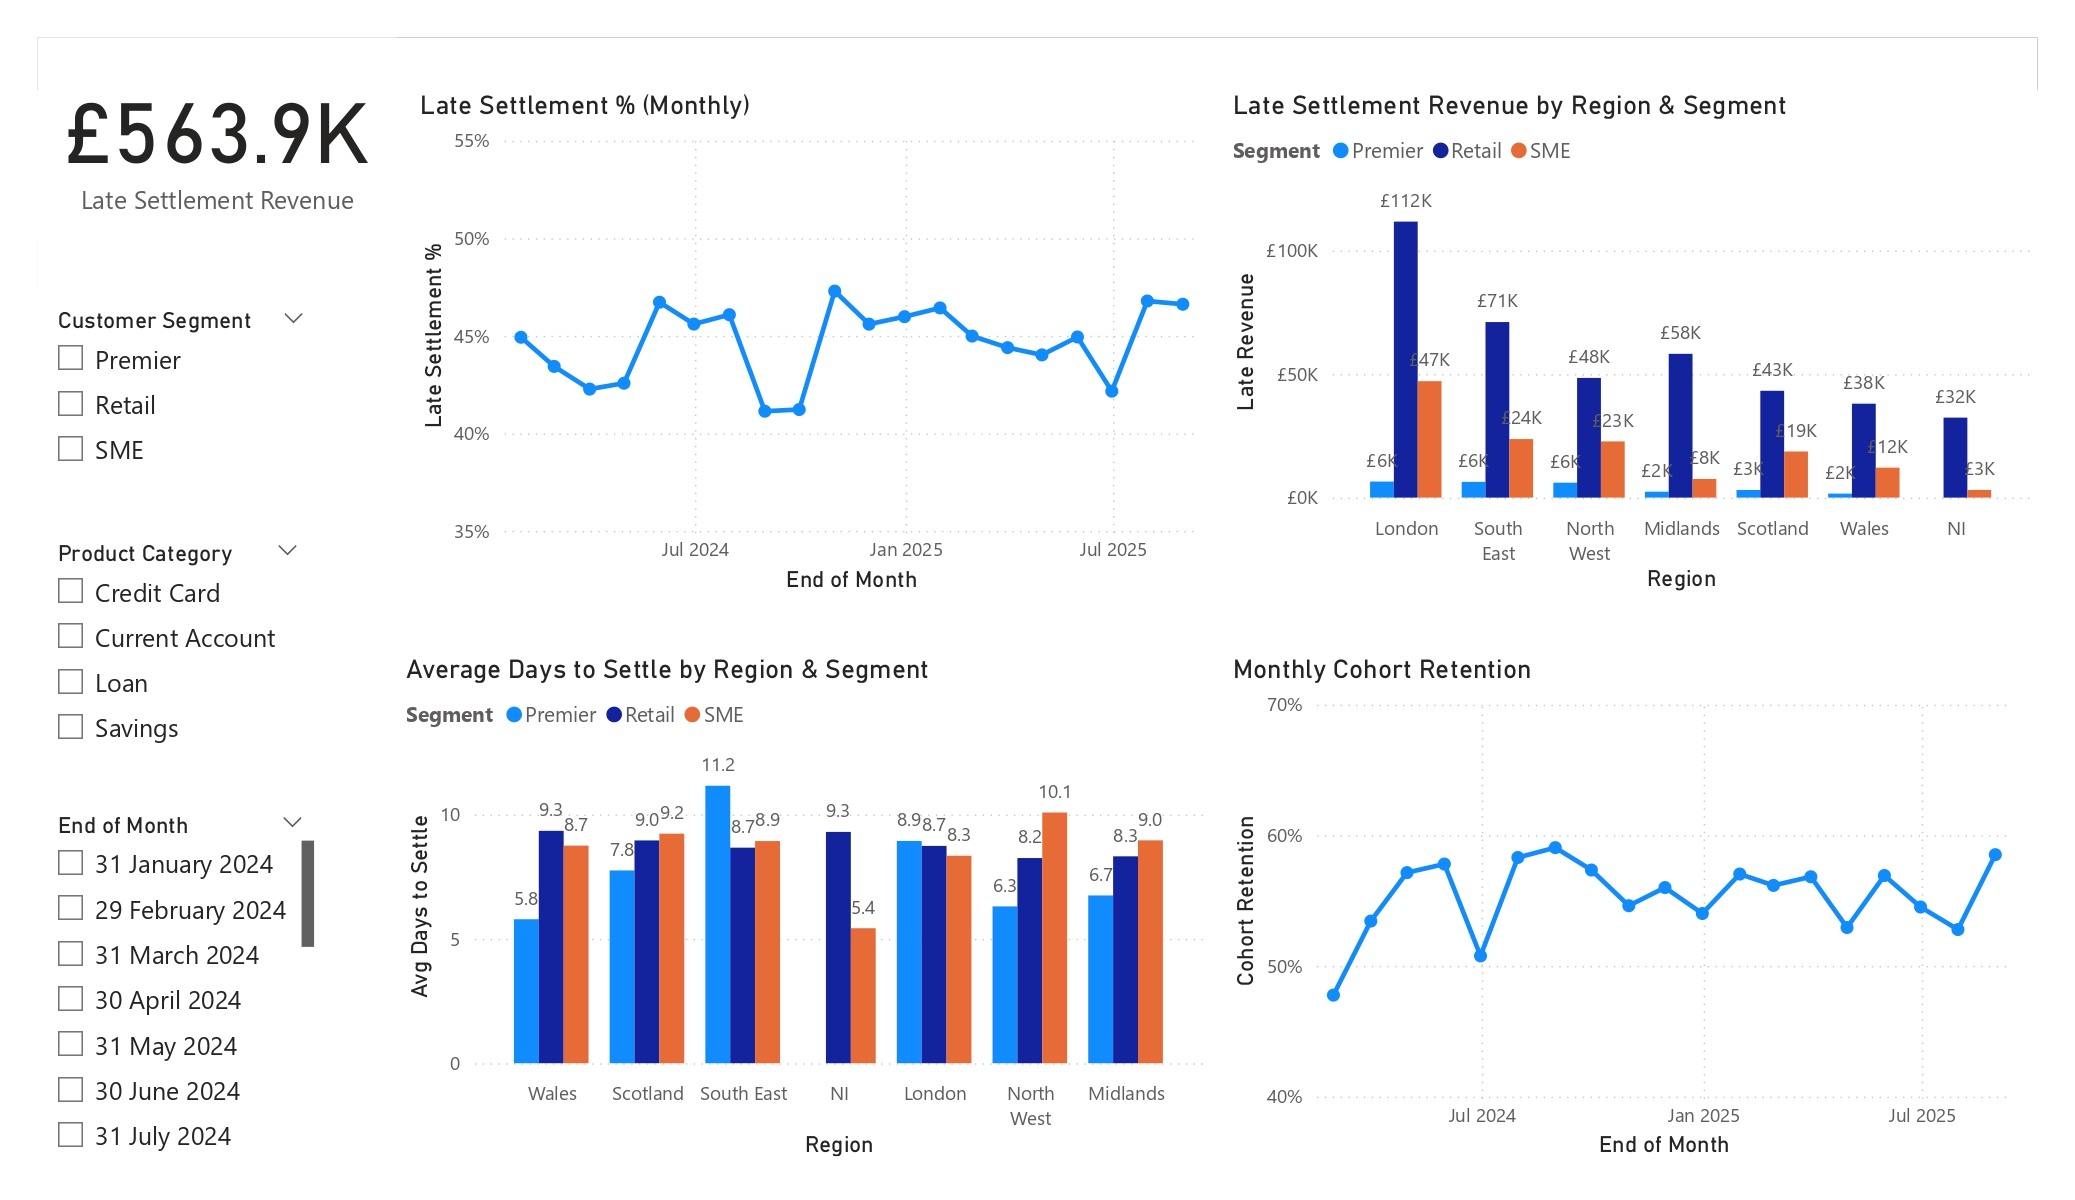

What the dashboard file says about the page in this screenshot:
{"tool":"powerbi","page":{"name":"Page 2","canvas":[1280,720],"ordinal":1},"visuals":[{"type":"lineChart","title":"Late Settlement % (Monthly)","fields":{"Category":["Date.EndOfMonth"],"Y":["Calculations.Late Settlement %"]},"box":[239.8,42,1040.2,326.5],"z":0},{"type":"card","fields":{"Values":["Calculations.Late Settlement Revenue"]},"box":[0,0,230.5,130.4],"z":1000},{"type":"clusteredColumnChart","title":"Late Settlement Revenue by Region & Segment","fields":{"Category":["customers.region"],"Series":["customers.segment"],"Y":["Calculations.Late Settlement Revenue"]},"box":[240.2,412.8,520.1,307.9],"z":2000},{"type":"slicer","fields":{"Values":["customers.segment"]},"box":[0,167.5,182.5,115],"z":3000},{"type":"slicer","fields":{"Values":["products.category"]},"box":[0,316.6,179.3,153.7],"z":4000},{"type":"slicer","fields":{"Values":["Date.EndOfMonth"]},"box":[0,491.2,181.6,228.2],"z":5000},{"type":"lineChart","title":"Monthly Cohort Retention","fields":{"Category":["Date.EndOfMonth"],"Y":["Calculations.Cohort Retention (30D EOM)"]},"box":[760.4,412.8,520.1,307.9],"z":6000}]}

Visuals, with their boxes on the page's 1280x720 design canvas (x1, y1, x2, y2). These are canvas units, not pixel positions in the 2075x1200 screenshot, which may show the page scaled, cropped or inside an application window:
"Late Settlement % (Monthly)" lineChart: 240, 42, 1280, 368
card - Calculations.Late Settlement Revenue: 0, 0, 230, 130
"Late Settlement Revenue by Region & Segment" clusteredColumnChart: 240, 413, 760, 721
slicer - customers.segment: 0, 168, 182, 282
slicer - products.category: 0, 317, 179, 470
slicer - Date.EndOfMonth: 0, 491, 182, 719
"Monthly Cohort Retention" lineChart: 760, 413, 1280, 721
